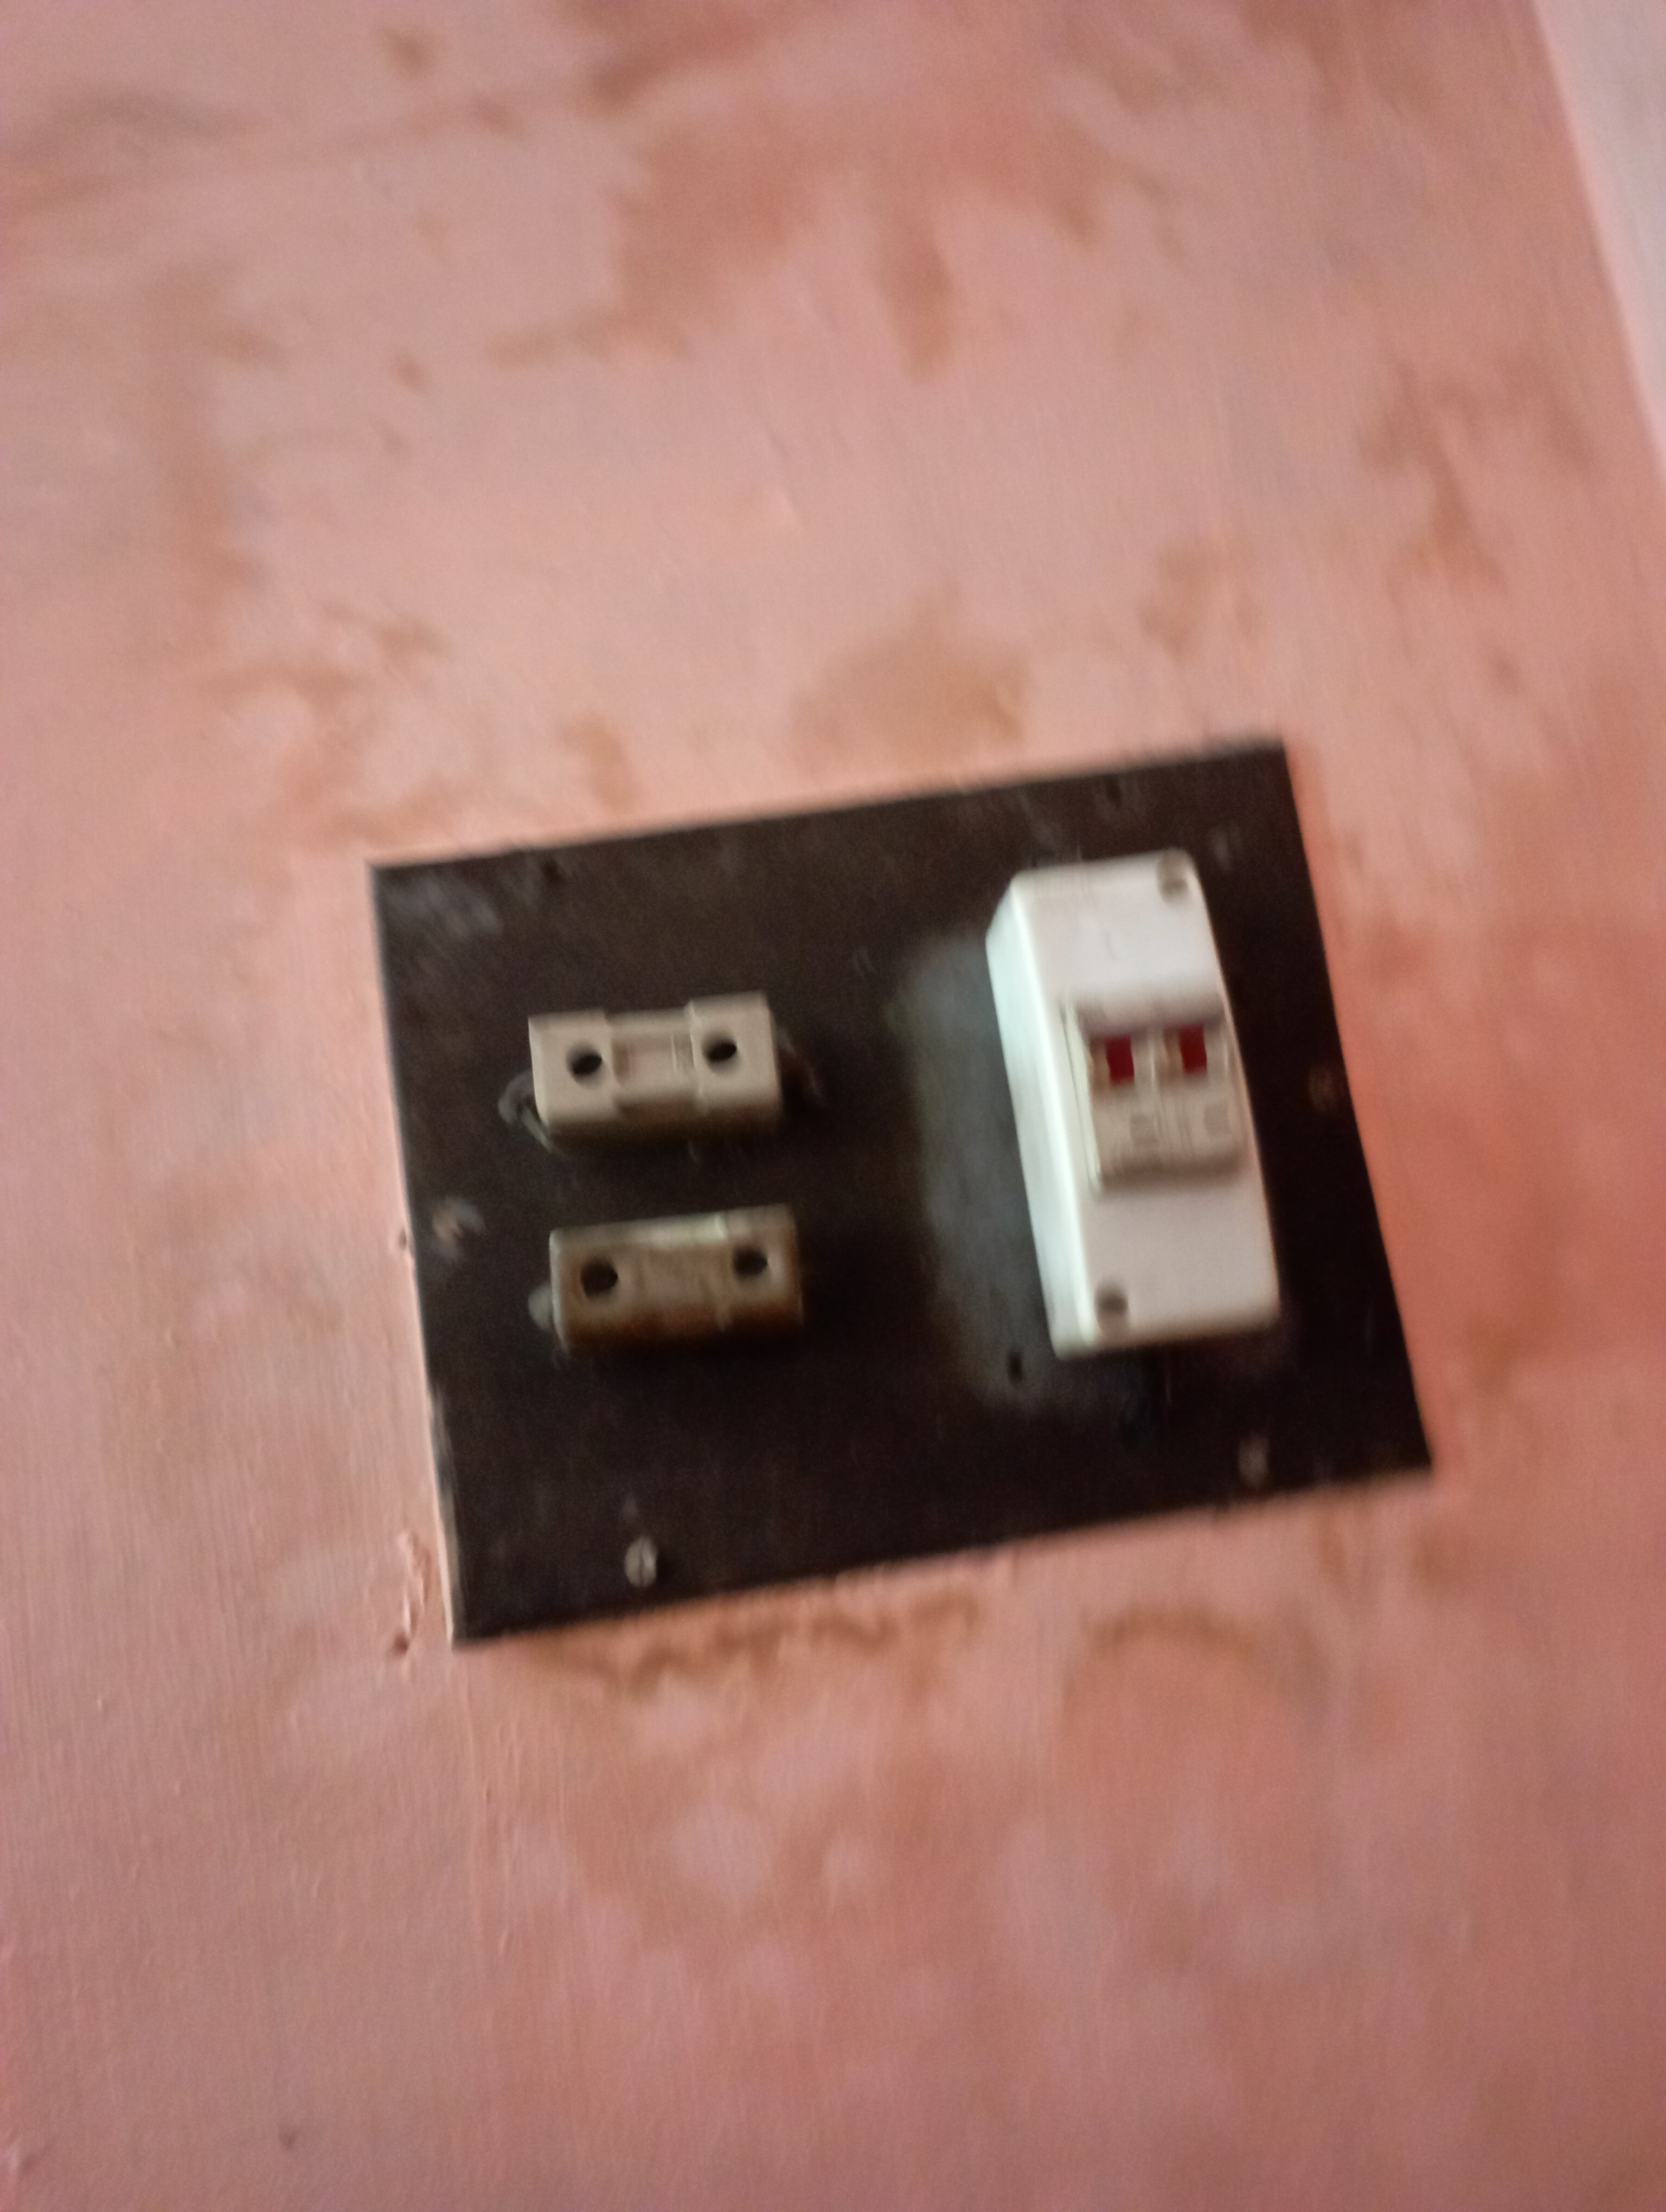ciruit_breaker: (978, 864, 1314, 1353)
fuse: (525, 1203, 845, 1345), (481, 1005, 816, 1128)
